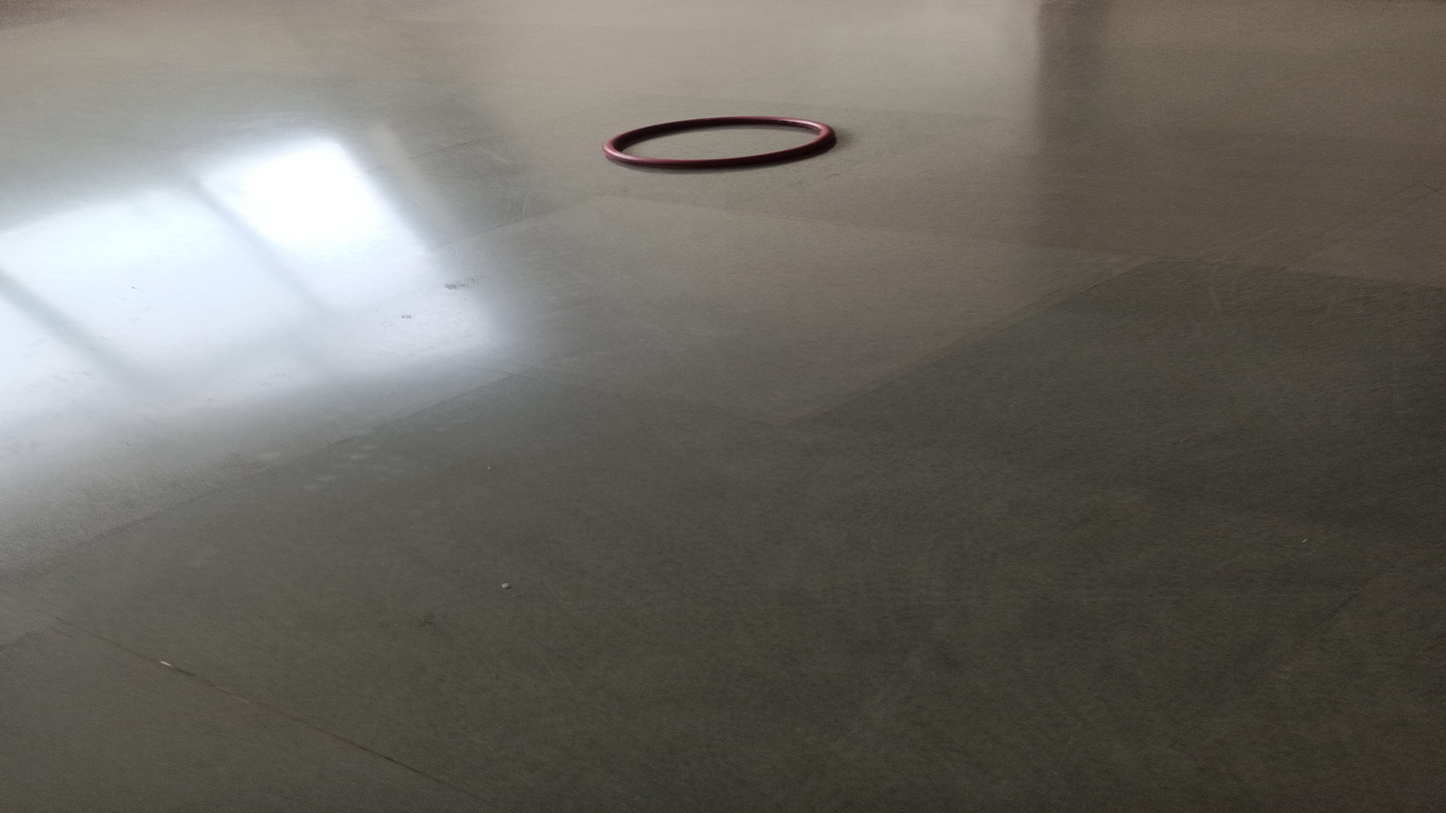Red ring: (600, 116, 837, 171)
